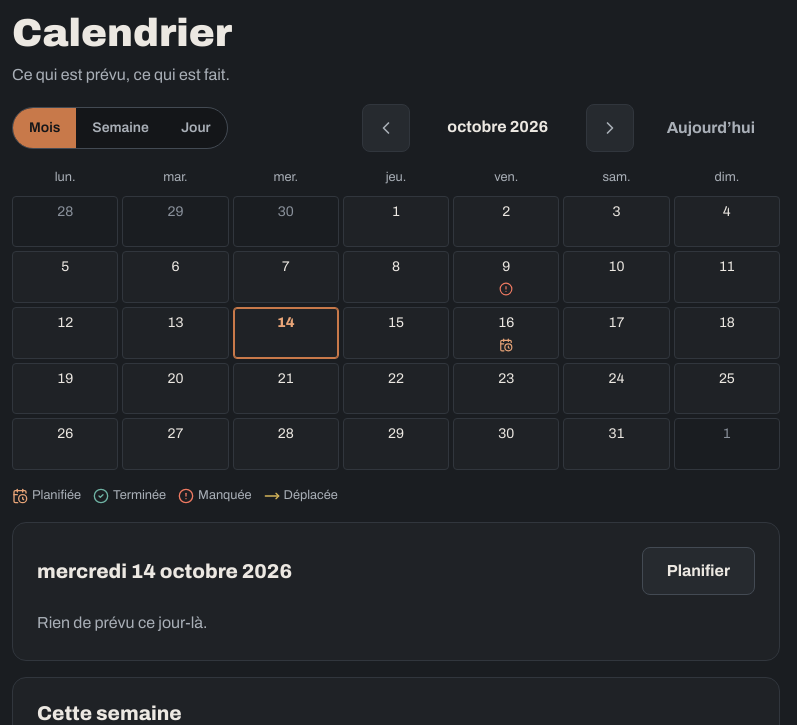
CalendarView › affiche les statuts avec une icône et un libellé
This screenshot has width=797, height=725.
Expected: the 1st button with class "cell" is shown, [12, 196, 118, 247]
Expected: the elements with class "legend__item" read "Planifiée", "Terminée", "Manquée", "Déplacée", in this order, [12, 486, 81, 506]; [93, 486, 166, 506]; [178, 486, 252, 506]; [264, 486, 338, 506]
What coordinates should you click on to do the following:
click the button with class "cell" showing "16"
I would click on:
 (506, 333)
Its box is [453, 307, 559, 359].
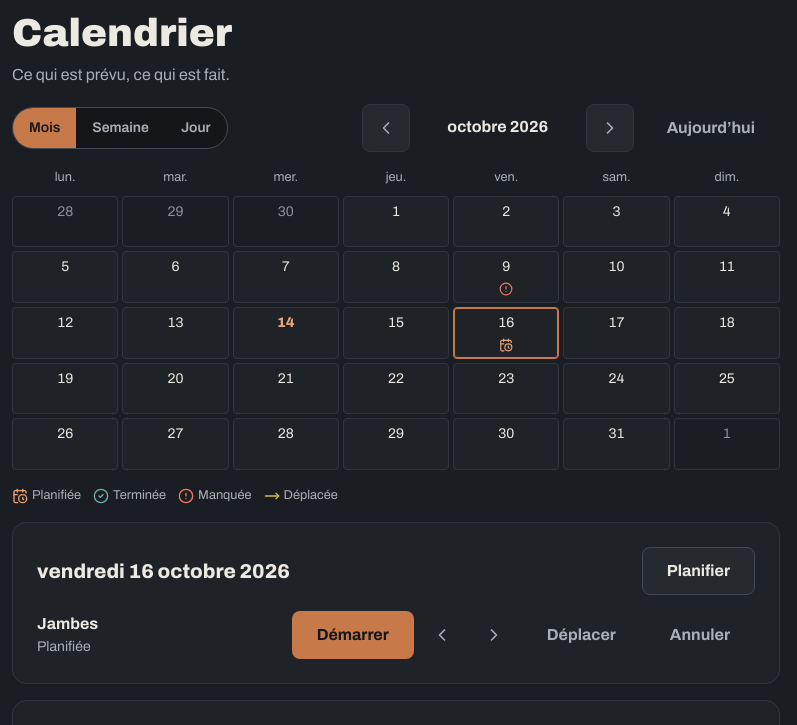
Expected: the text with class "day__title" reads "Jambes", [37, 615, 98, 632]
Expected: the text with class "day__status" reads "Planifiée", [37, 639, 91, 654]
